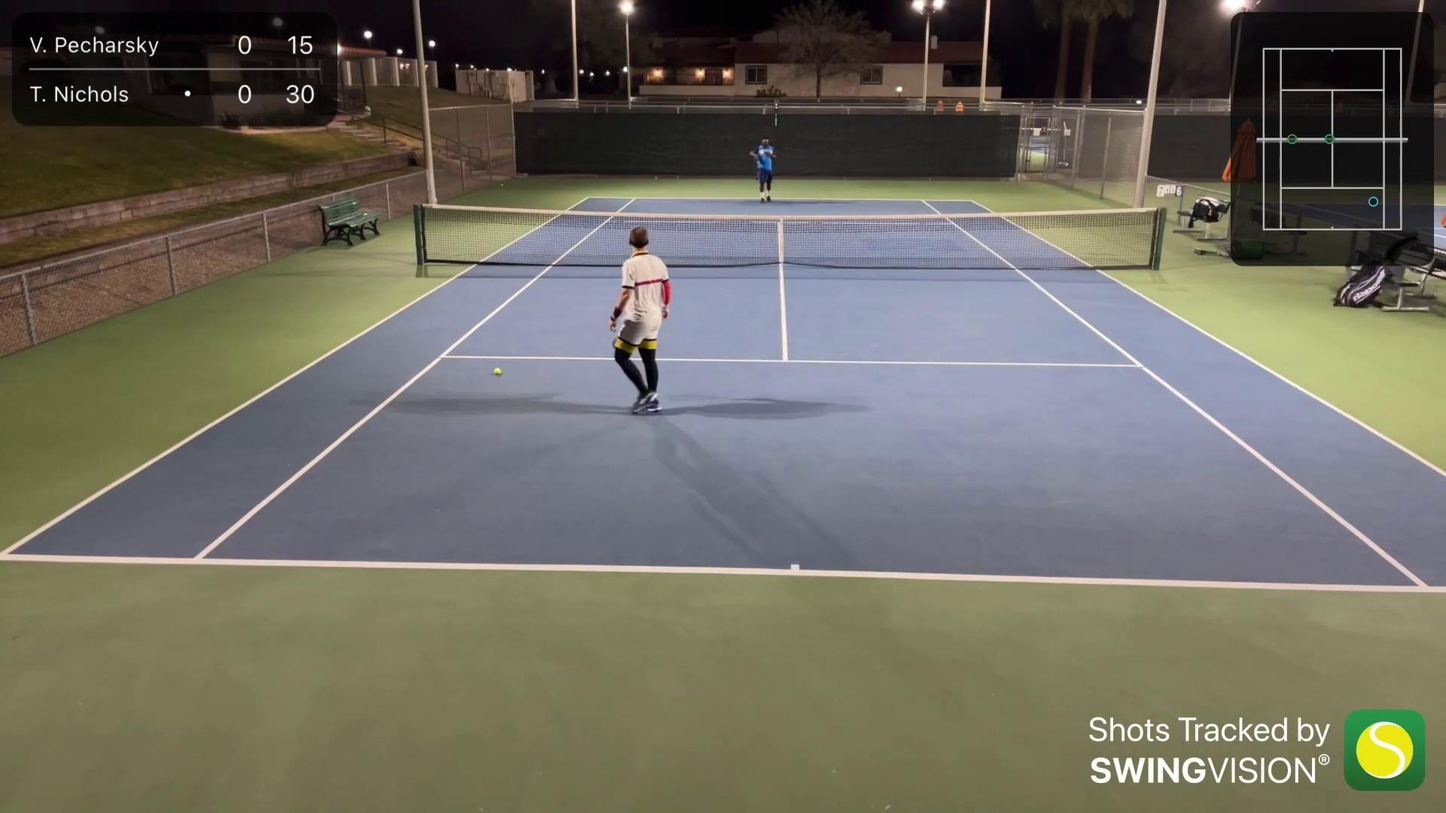ball: (493, 368, 503, 376)
